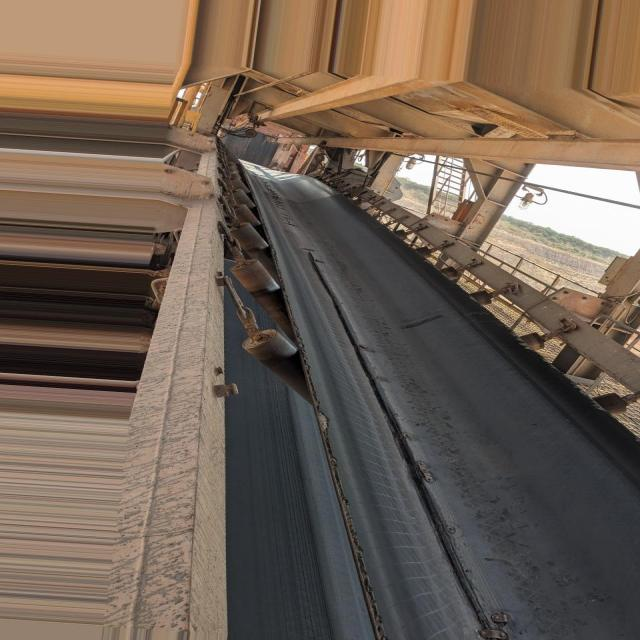Roller: (236, 172, 287, 320), (242, 328, 313, 408)
Tear: (300, 253, 520, 640)
